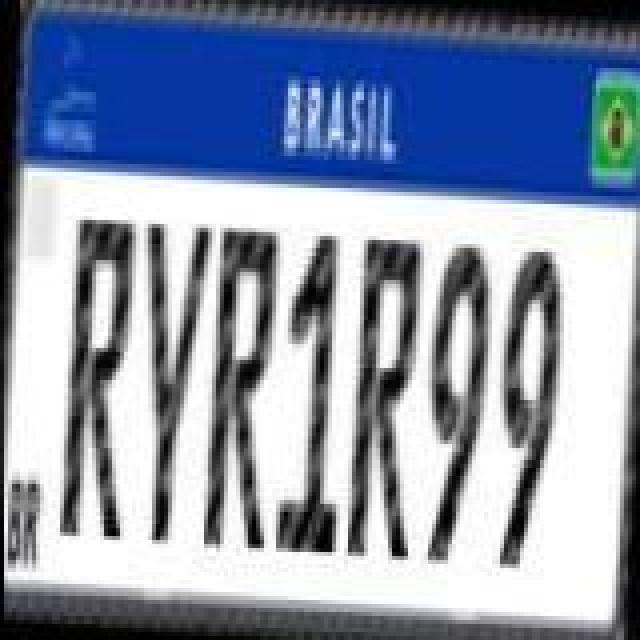1: (270, 226, 354, 558)
9: (414, 236, 498, 568), (486, 242, 570, 574)
R: (340, 238, 428, 566), (54, 216, 138, 544), (198, 228, 282, 552)
Y: (124, 220, 212, 552)
